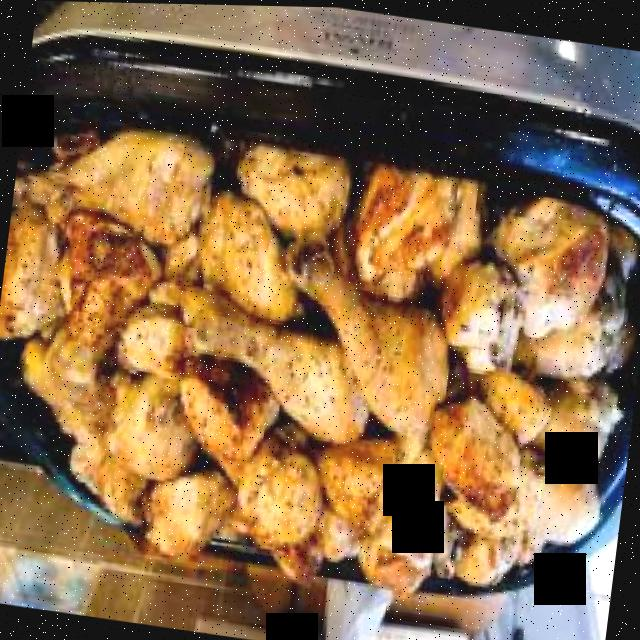Frango: (0, 82, 640, 627)
